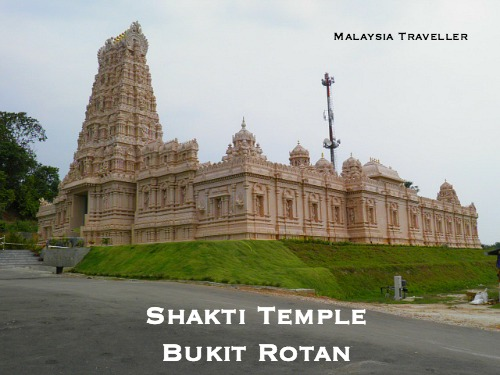Hindu Temple: (52, 26, 472, 251)
